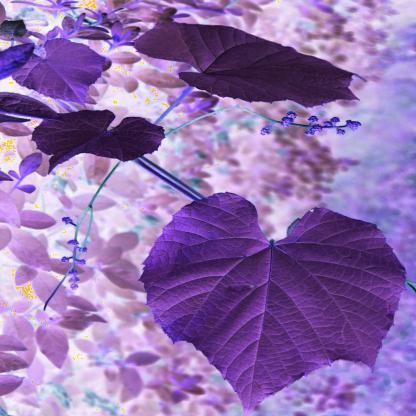grape leaf black rot: (130, 195, 406, 410), (131, 13, 373, 112), (30, 104, 172, 178), (9, 34, 109, 108)
